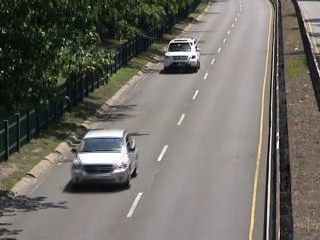car: (69, 126, 142, 188), (160, 34, 205, 75)
